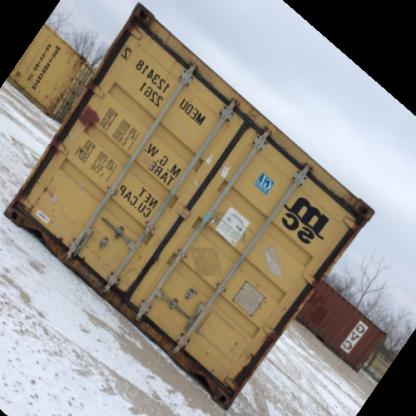Damage: (36, 219, 104, 269), (209, 364, 270, 405), (124, 7, 178, 51), (340, 190, 382, 236), (67, 100, 104, 136)
